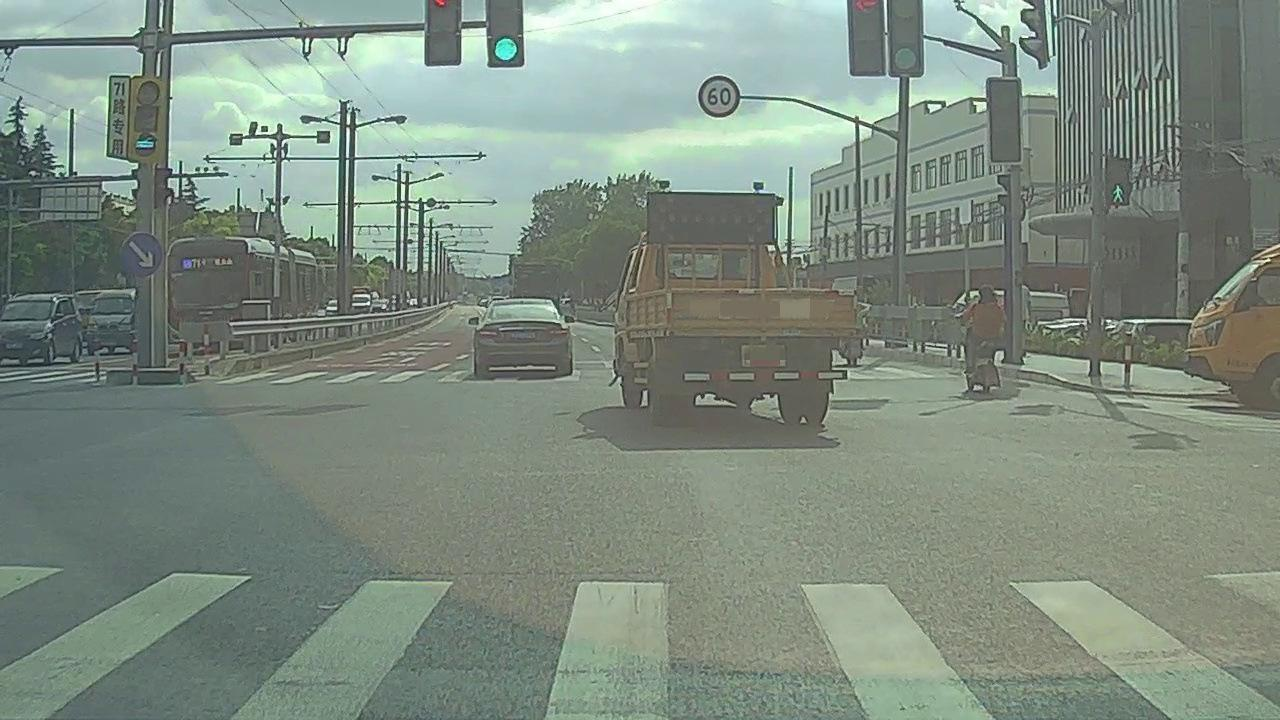traffic_light: (850, 1, 883, 75), (890, 1, 922, 75), (488, 1, 522, 64), (427, 1, 458, 63)
